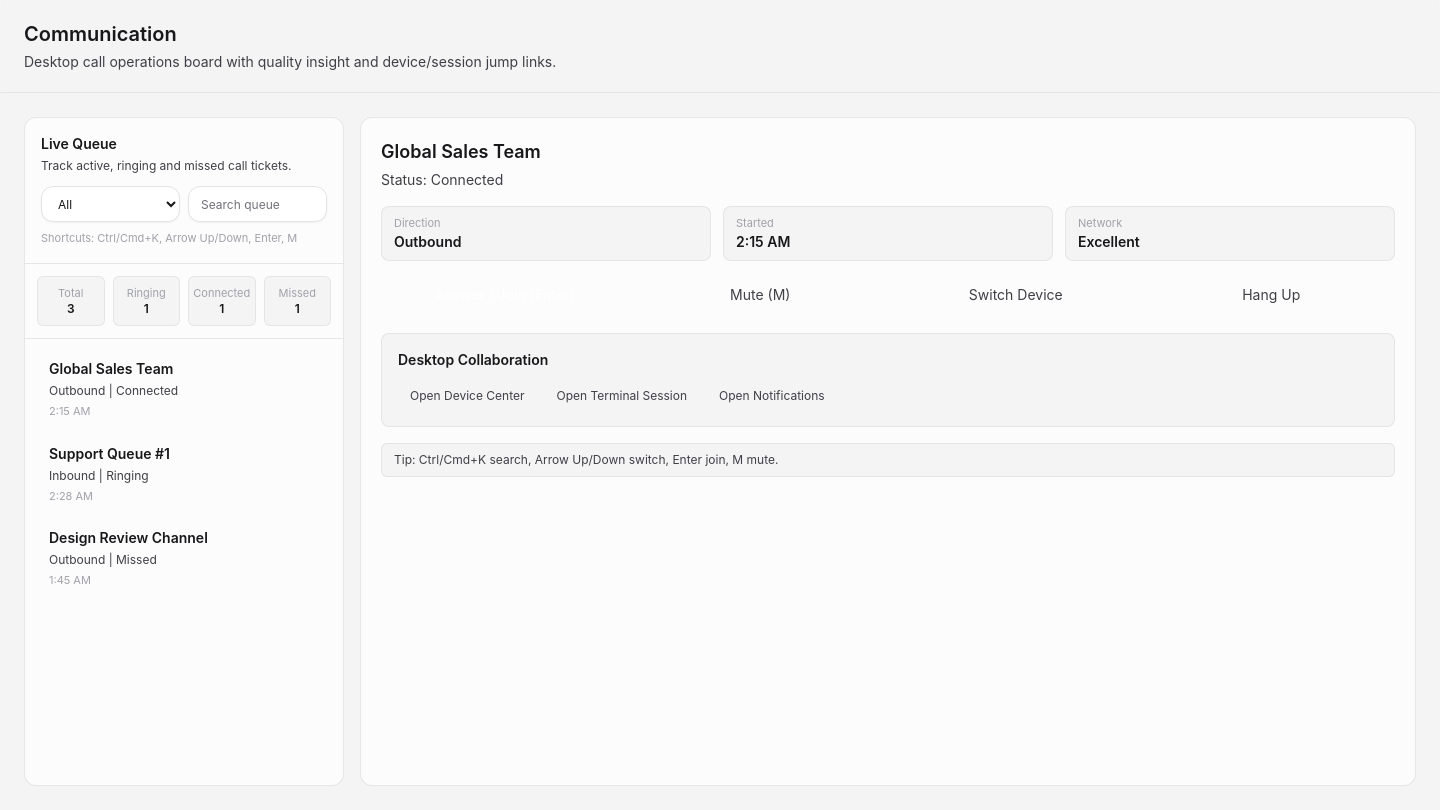
Test: CallsPage desktop interactions › filters queue by status
The width and height of the screenshot is (1440, 810).
Select "Missed" in the dropdown at (110, 204), box top-left (41, 186), bottom-right (180, 222)
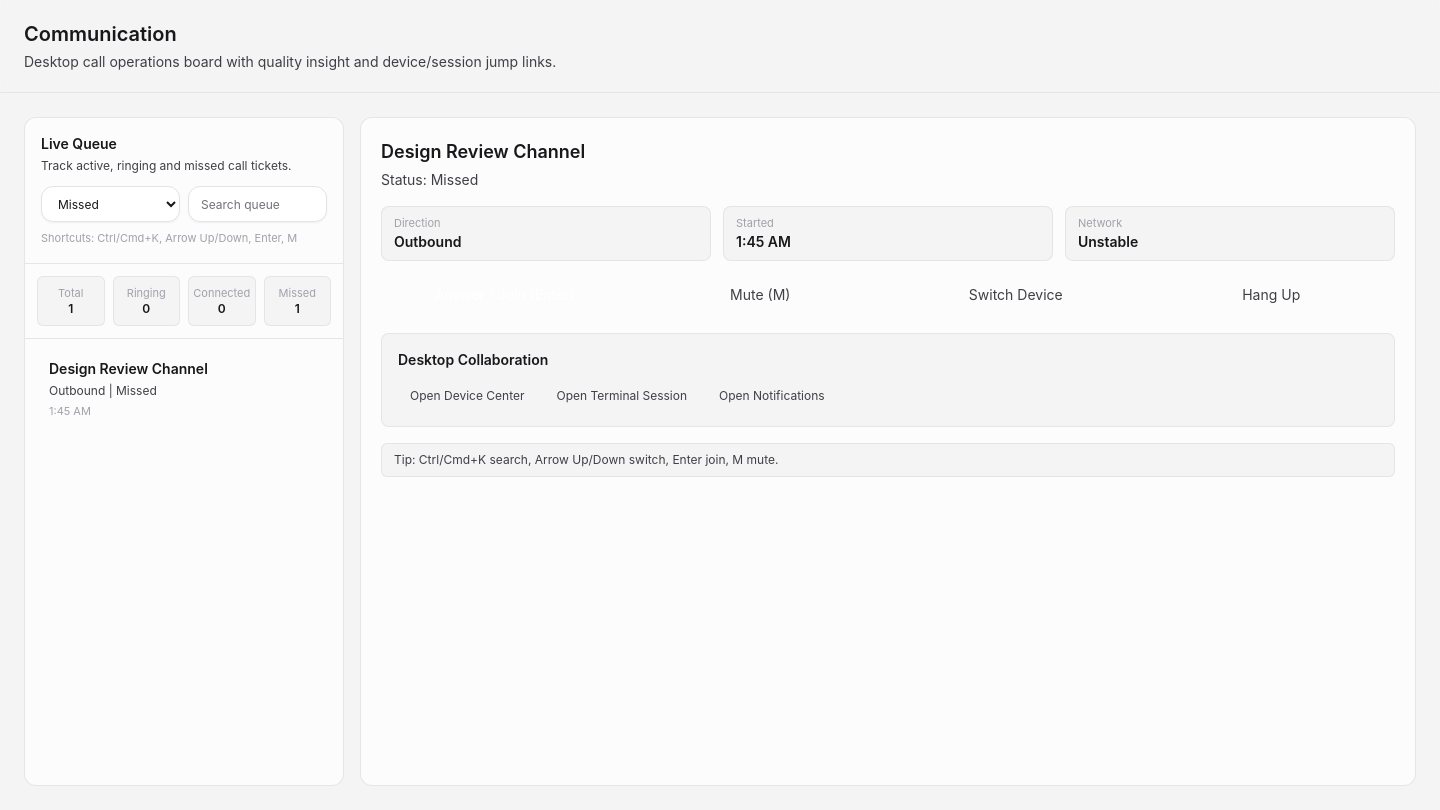
Expected: the text "Design Review Channel" is shown, top-left (49, 360), bottom-right (208, 377)
Now the button "Support Queue #1" is gone
